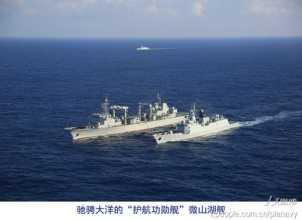warship: (67, 93, 191, 143), (147, 109, 245, 148)
